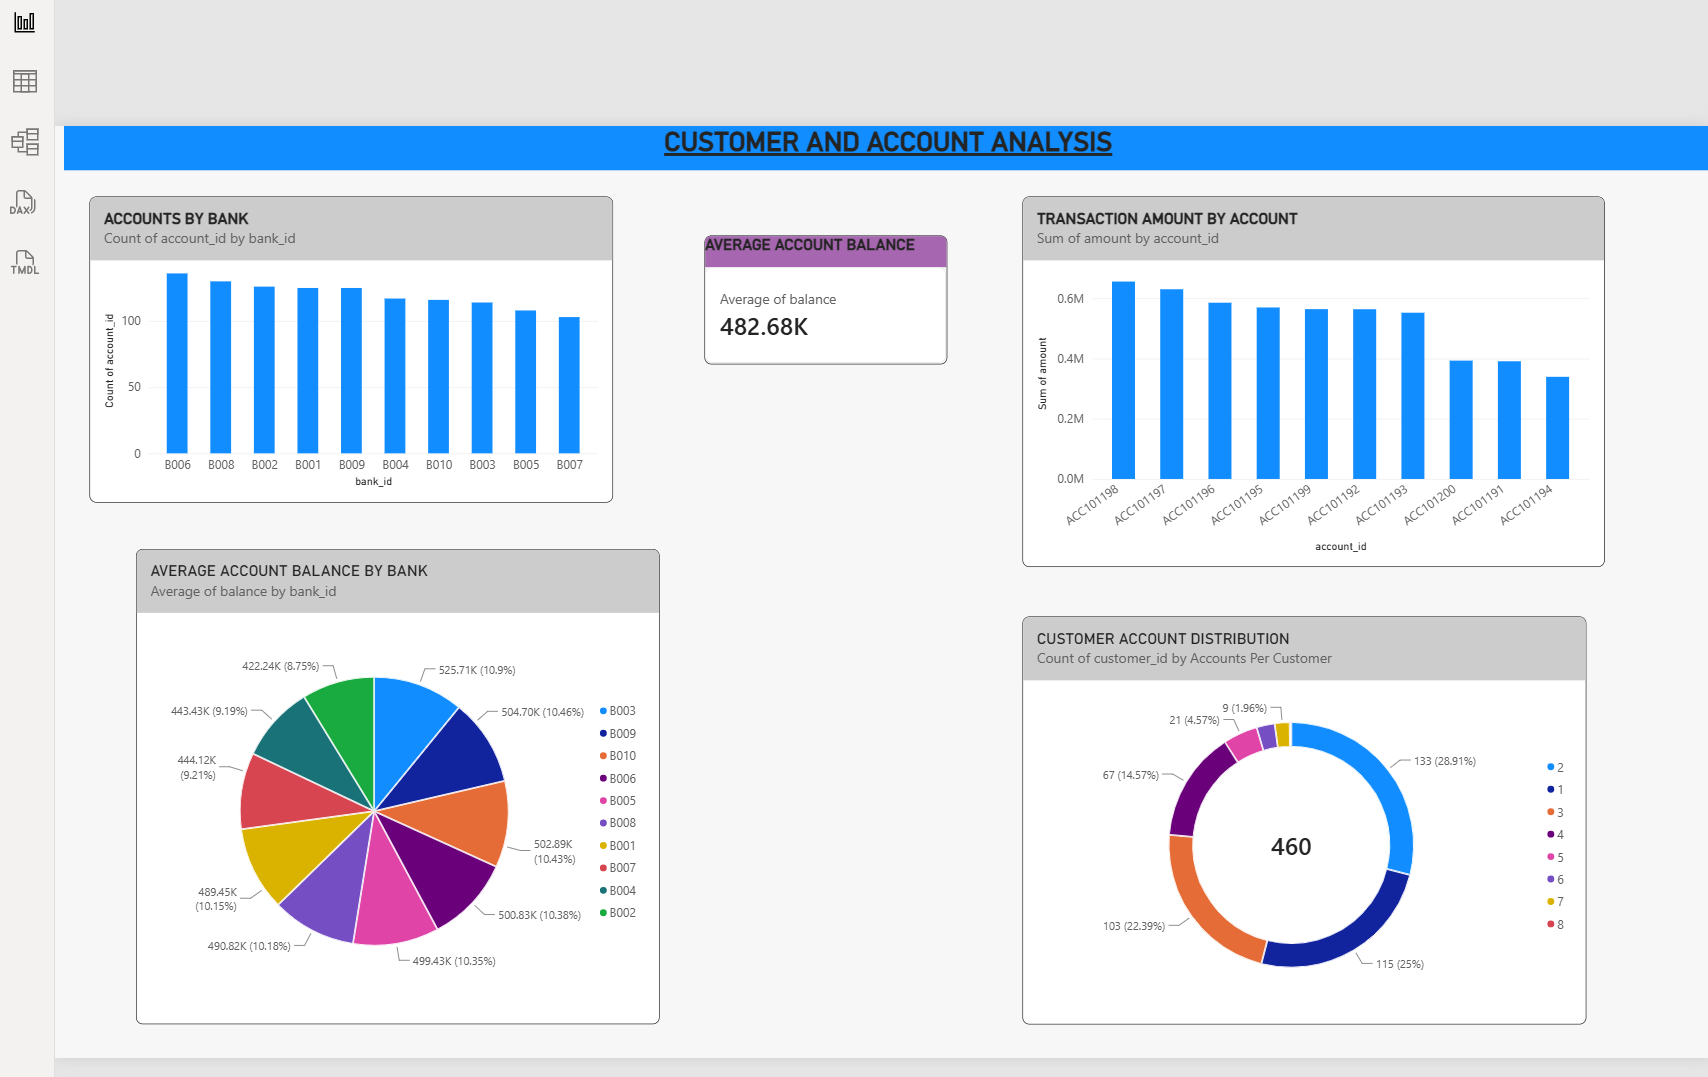

Layout of this report page (visuals, bound fields, positions):
{"tool":"powerbi","page":{"name":"Page 3","canvas":[1920,1080],"ordinal":2},"visuals":[{"type":"textbox","title":"CUSTOMER AND ACCOUNT ANALYSIS","box":[10.4,0,1910.2,125.1],"z":0},{"type":"cardVisual","title":"AVERAGE ACCOUNT BALANCE","fields":{"Data":["Avg(finance_db accounts.balance)"]},"box":[752.6,126.9,281.6,149.5],"z":1000},{"type":"clusteredColumnChart","title":"ACCOUNTS BY BANK","fields":{"Category":["finance_db accounts.bank_id"],"Y":["CountNonNull(finance_db accounts.account_id)"]},"box":[40,81.7,606.6,354.6],"z":2000},{"type":"clusteredColumnChart","title":"TRANSACTION AMOUNT BY ACCOUNT","fields":{"Category":["finance_db transactions.account_id"],"Y":["Sum(finance_db transactions.amount)"]},"box":[1121.1,81.7,674.4,429.3],"z":5000},{"type":"pieChart","title":"AVERAGE ACCOUNT BALANCE BY BANK","fields":{"Category":["finance_db accounts.bank_id"],"Y":["Avg(finance_db accounts.balance)"]},"box":[93.9,490.1,606.6,551],"z":5001},{"type":"donutChart","title":"CUSTOMER ACCOUNT DISTRIBUTION","fields":{"Category":["finance_db accounts.Accounts Per Customer"],"Y":["Count(finance_db accounts.customer_id)"]},"box":[1121.1,568.4,653.5,472.8],"z":5002}]}

Visuals, with their boxes on the page's 1920x1080 design canvas (x1, y1, x2, y2). These are canvas units, not pixel positions in the 1708x1077 screenshot, which may show the page scaled, cropped or inside an application window:
"CUSTOMER AND ACCOUNT ANALYSIS" textbox: [10, 0, 1921, 125]
"AVERAGE ACCOUNT BALANCE" cardVisual: [753, 127, 1034, 276]
"ACCOUNTS BY BANK" clusteredColumnChart: [40, 82, 647, 436]
"TRANSACTION AMOUNT BY ACCOUNT" clusteredColumnChart: [1121, 82, 1796, 511]
"AVERAGE ACCOUNT BALANCE BY BANK" pieChart: [94, 490, 700, 1041]
"CUSTOMER ACCOUNT DISTRIBUTION" donutChart: [1121, 568, 1775, 1041]
